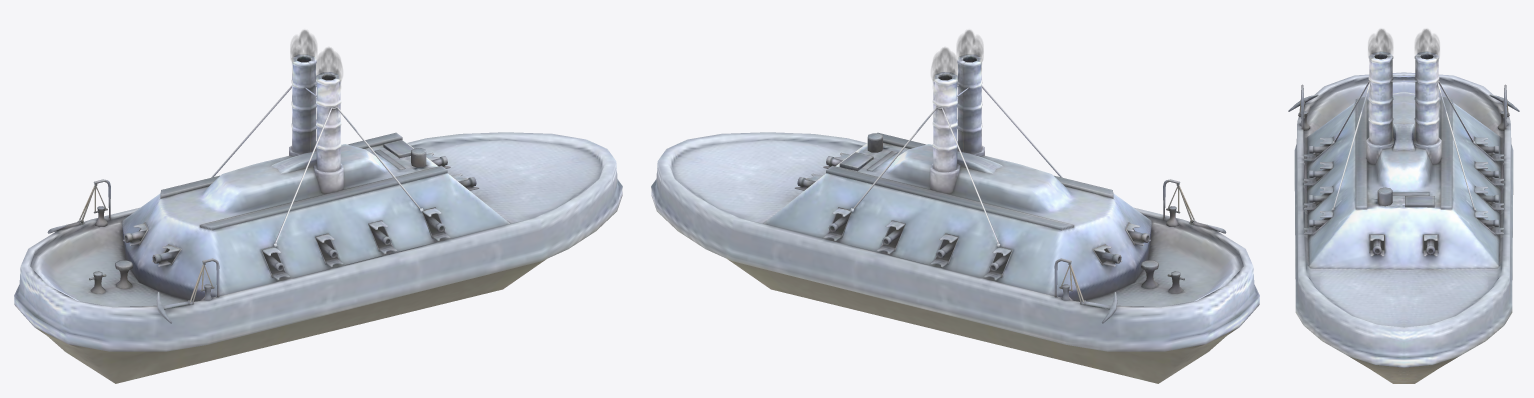
Rendered from Ironclad.glb.
3 renders of one model, left to right at view 1: azimuth 30°, elevation 25°; view 2: azimuth 150°, elevation 25°; view 3: azimuth 270°, elevation 25°, orthographic. The views are drawn at different scales.
Parts seen in each view (by area): view 1: low, Plane; view 2: low, Plane; view 3: low, Plane.
Part boxes in pixels (box(x1,y1,x2,y2)): low: box(14, 54, 622, 383); Plane: box(290, 30, 341, 84); low: box(651, 54, 1259, 383); Plane: box(932, 30, 983, 84); low: box(1288, 51, 1519, 383); Plane: box(1368, 29, 1439, 61).
Bounding box in the file's own units: 11.25 × 5.52 × 4.15.
Materials: 2 (2 with a texture image).
